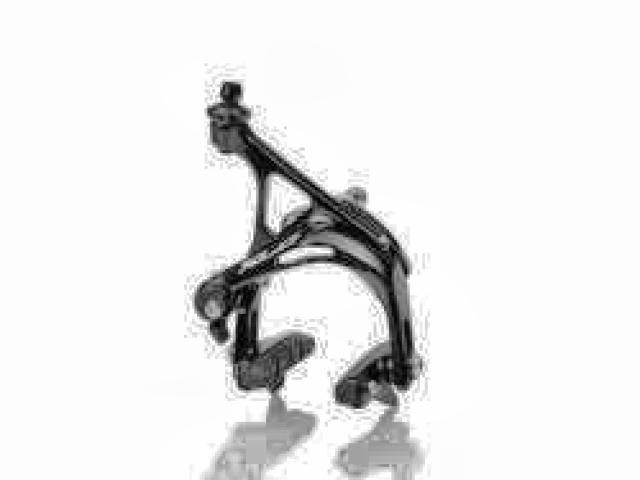rim_brake: (193, 76, 422, 412)
